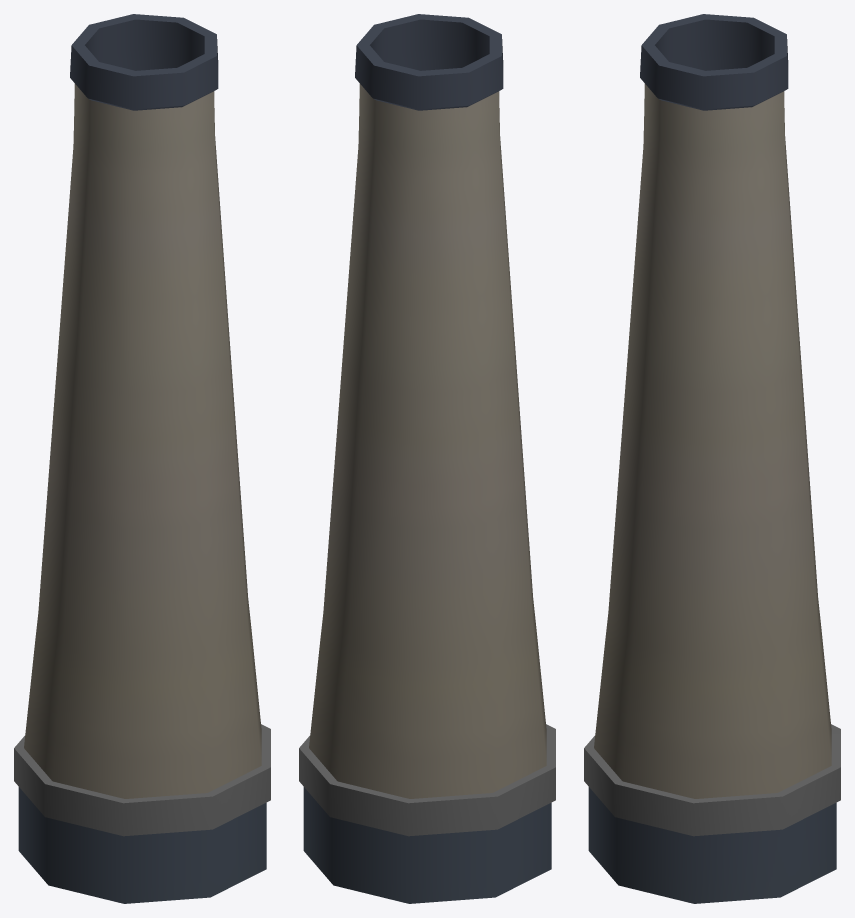
Rendered from ChimneyPowerPlant_2_C.fbx.
3 views of the same model, side by side, from view 1: azimuth 30°, elevation 25°; view 2: azimuth 150°, elevation 25°; view 3: azimuth 270°, elevation 25° (orthographic).
Parts seen in each view (by area): view 1: ChimneyPowerPlant_2_C; view 2: ChimneyPowerPlant_2_C; view 3: ChimneyPowerPlant_2_C.
Part boxes in pixels (box(x1,y1,x2,y2)): ChimneyPowerPlant_2_C: box(14, 14, 270, 903); ChimneyPowerPlant_2_C: box(299, 14, 555, 903); ChimneyPowerPlant_2_C: box(584, 14, 840, 903).
Size of the model in its own units: 562 by 1916 by 554.
